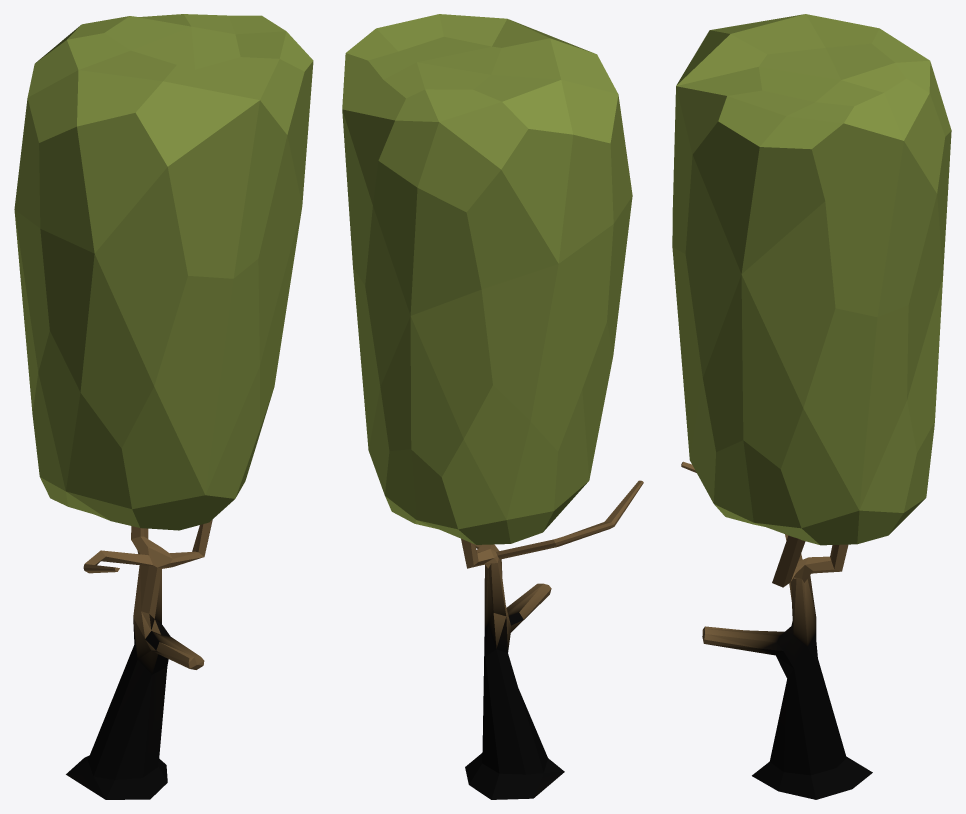
The model's file is EA03_Nature_Tree_06b.glb.
3 renders of one model, left to right at view 1: azimuth 30°, elevation 25°; view 2: azimuth 150°, elevation 25°; view 3: azimuth 270°, elevation 25°, orthographic. The views are drawn at different scales.
Visible parts, largest first — view 1: EA03_Nature_Tree_06b; view 2: EA03_Nature_Tree_06b; view 3: EA03_Nature_Tree_06b.
Part boxes in pixels (x1,y1,x2,y2): EA03_Nature_Tree_06b: (14, 14, 313, 799); EA03_Nature_Tree_06b: (342, 14, 643, 799); EA03_Nature_Tree_06b: (672, 14, 951, 799).
Size of the model in its own units: 6.31 by 16.81 by 5.72.
Materials: 1 (1 with a texture image).
